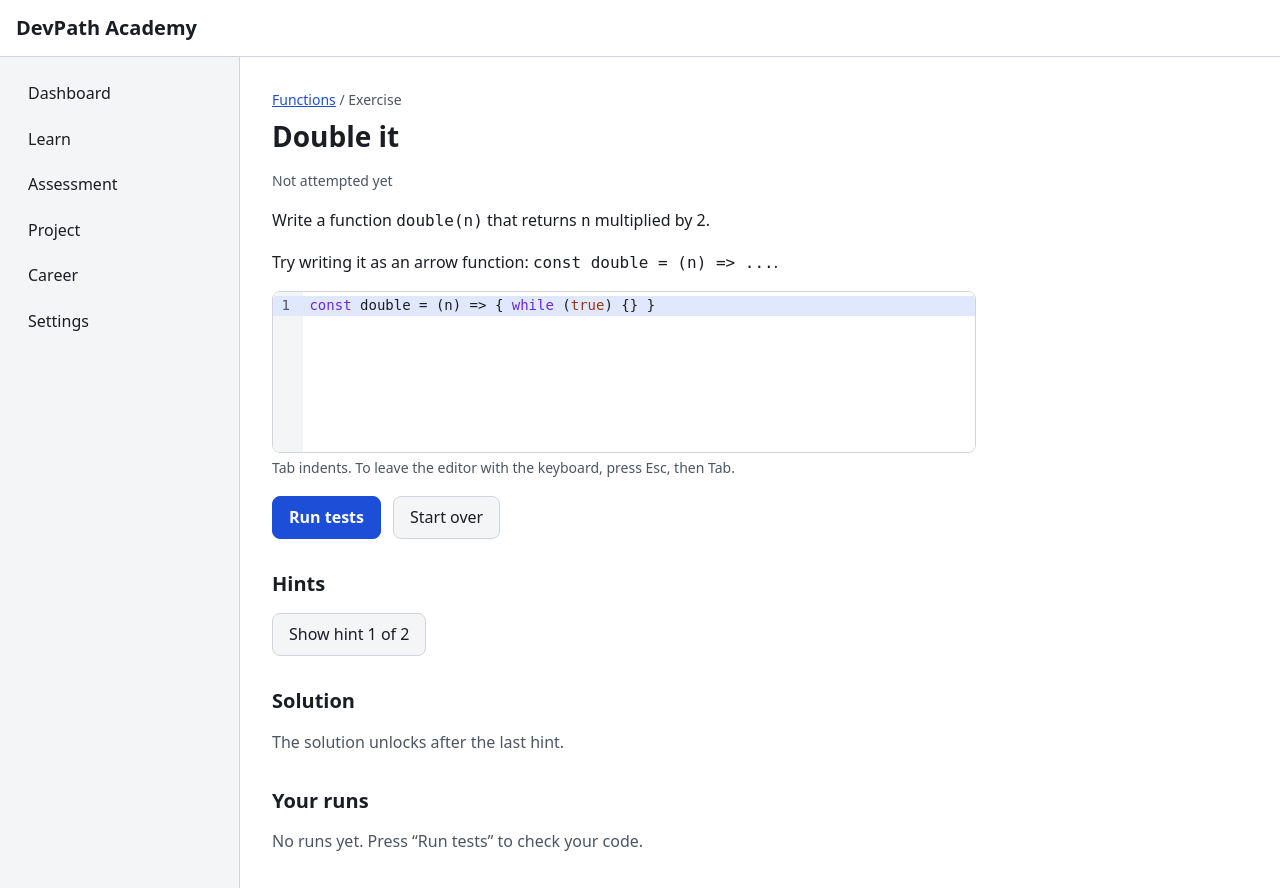
Test: exercise page (/exercises/:exerciseId) › stops code that never finishes
Expected: the field named "Your code" is shown, [303, 296, 975, 316]
Click the button "Run tests". click: (326, 517)
box: [272, 496, 381, 539]
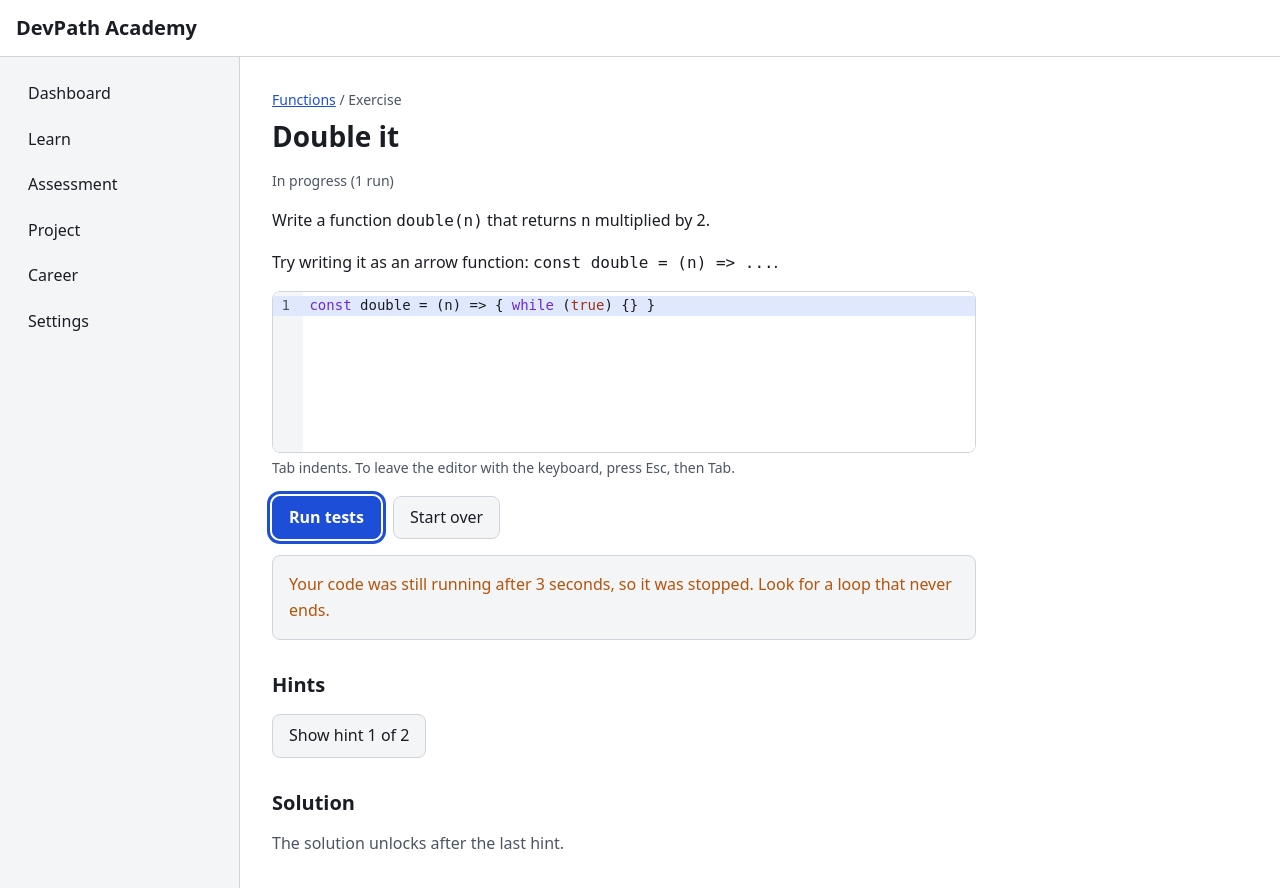
Expected: the text "so it was stopped" is shown, [289, 573, 952, 621]
